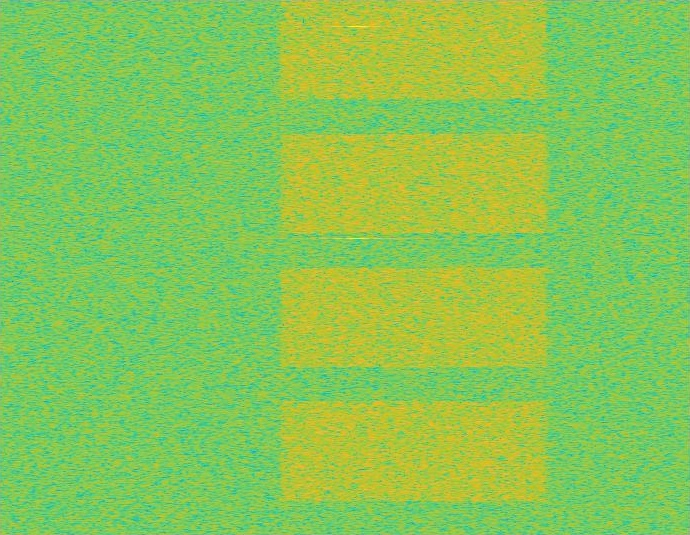5G: (276, 0, 552, 534)
Radar: (351, 0, 365, 534)
